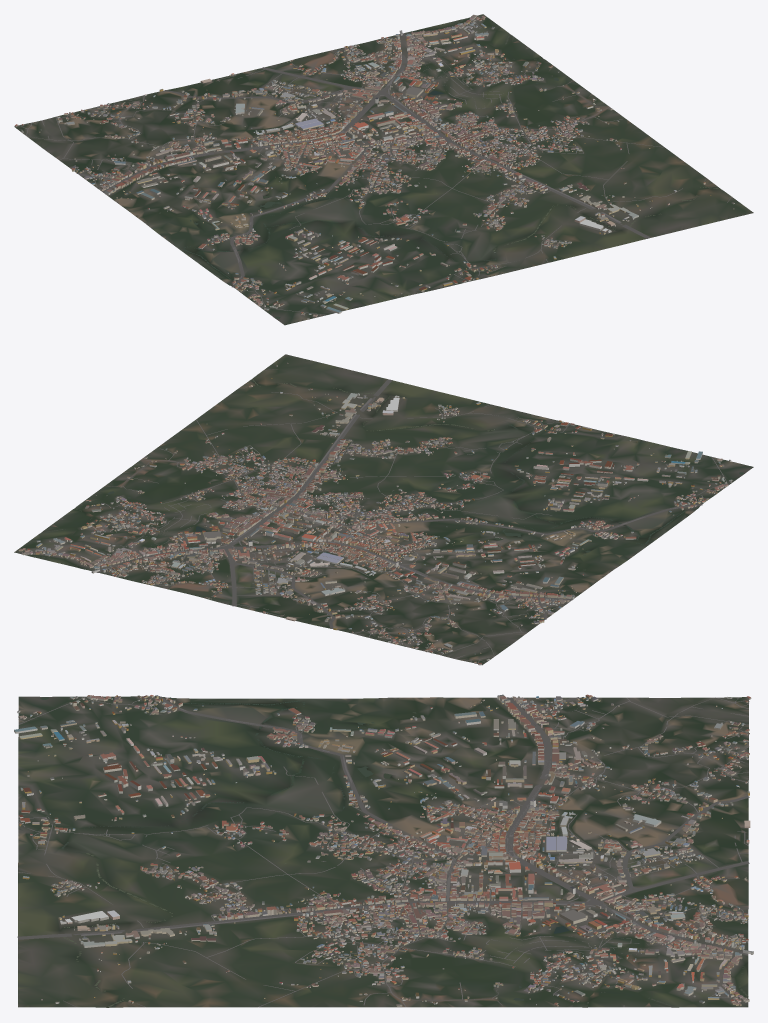
The picture shows the model from 3 angles, top to bottom: view 1: azimuth 30°, elevation 25°; view 2: azimuth 150°, elevation 25°; view 3: azimuth 270°, elevation 25°; orthographic projection. The views are drawn at different scales.
Parts seen in each view (by area): view 1: ground, buildings, roads, water; view 2: ground, buildings, roads, water; view 3: ground, buildings, roads, water.
Part boxes in pixels (x1=…): ground: x1=14, y1=14, x2=753, y2=325; buildings: x1=14, y1=14, x2=734, y2=319; roads: x1=21, y1=22, x2=731, y2=316; water: x1=159, y1=18, x2=718, y2=318; ground: x1=14, y1=354, x2=753, y2=665; buildings: x1=18, y1=362, x2=732, y2=665; roads: x1=37, y1=369, x2=728, y2=663; water: x1=31, y1=379, x2=743, y2=570; ground: x1=18, y1=696, x2=748, y2=1007; buildings: x1=14, y1=694, x2=753, y2=1006; roads: x1=17, y1=696, x2=749, y2=1007; water: x1=40, y1=697, x2=748, y2=1007.
Bounding box in the file's own units: 2811 × 37.62 × 2840.
